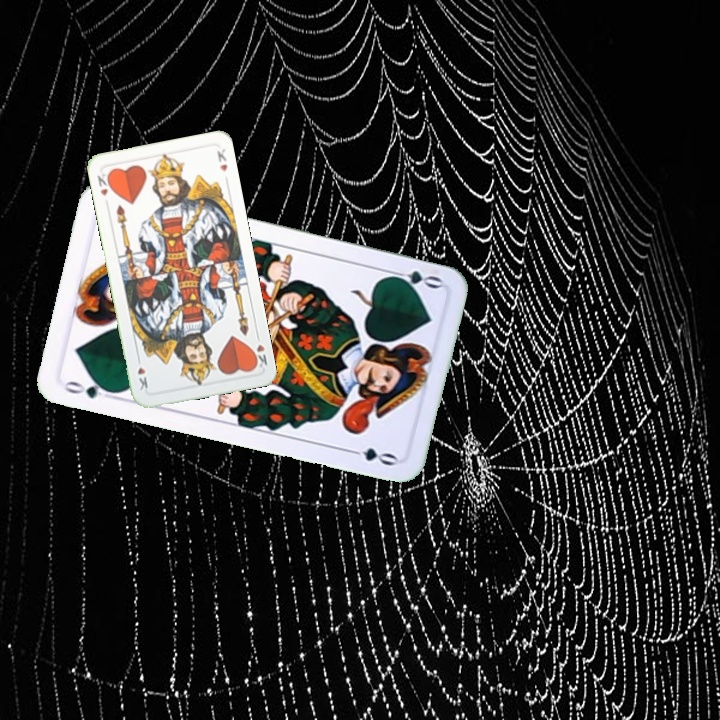GO: (383, 266, 444, 292), (60, 375, 119, 401)
HK: (248, 330, 270, 371), (93, 169, 114, 199)
